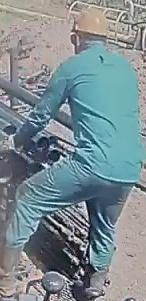gloves: (0, 132, 29, 156)
helmet: (69, 6, 108, 41)
vest: (49, 49, 146, 189)
